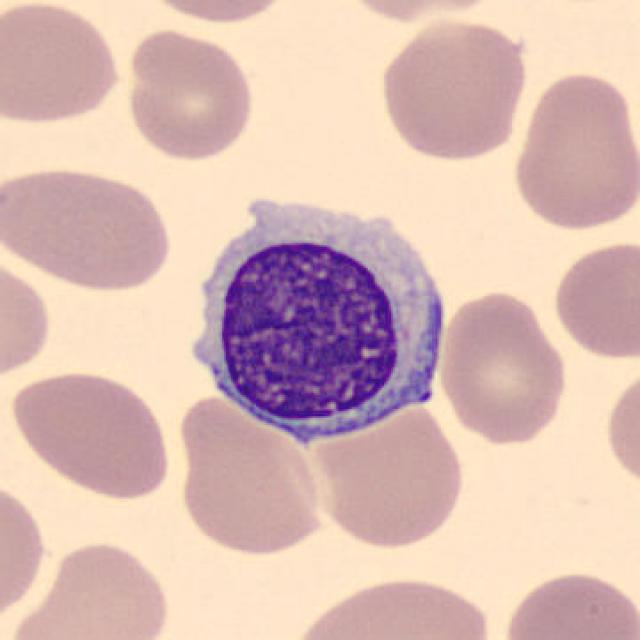Lymphocyte: (171, 183, 457, 453)
RBC: (172, 390, 329, 559), (308, 398, 470, 552), (374, 11, 532, 164), (5, 365, 176, 501), (2, 160, 176, 292), (434, 286, 572, 448), (507, 67, 638, 236), (121, 25, 258, 164), (4, 536, 176, 640), (0, 0, 126, 130), (281, 569, 498, 640), (548, 236, 638, 363), (496, 564, 638, 640), (0, 476, 50, 628), (0, 250, 55, 386), (602, 359, 640, 499), (329, 0, 512, 25), (133, 0, 300, 26)
